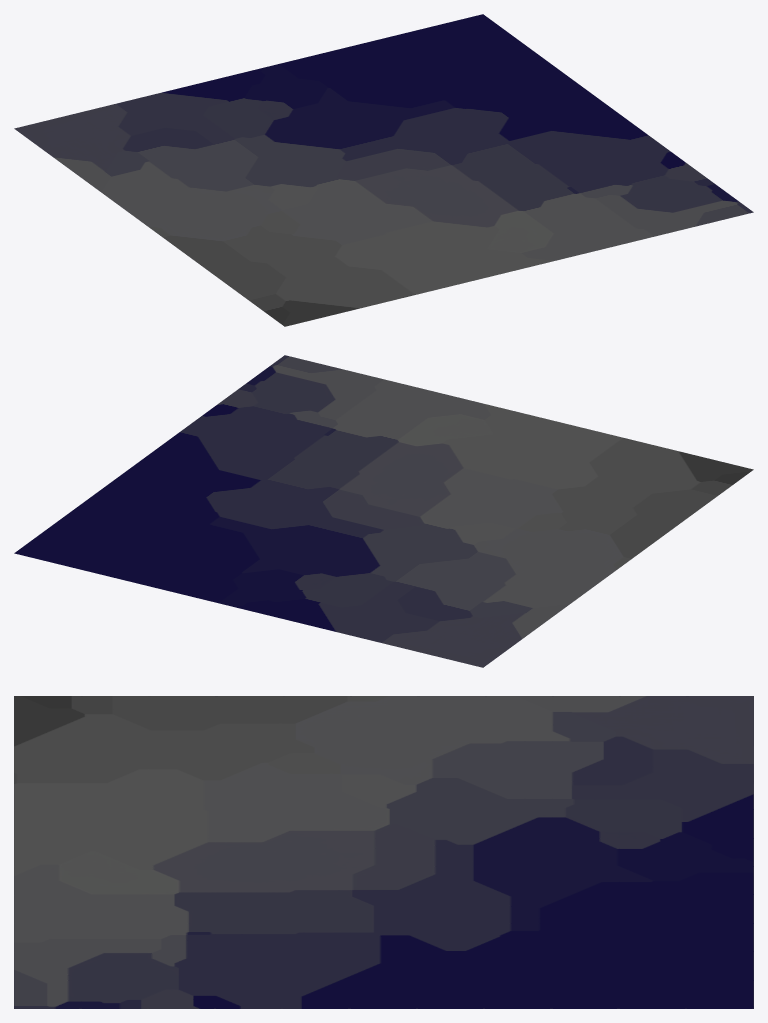
The model's file is gnd.fbx.
3 renders of one model, top to bottom at view 1: azimuth 30°, elevation 25°; view 2: azimuth 150°, elevation 25°; view 3: azimuth 270°, elevation 25°, orthographic. The views are drawn at different scales.
Visible parts, largest first — view 1: gnd; view 2: gnd; view 3: gnd.
Part boxes in pixels (<box>): gnd: <box>14,14,753,326</box>; gnd: <box>14,355,753,667</box>; gnd: <box>14,696,753,1008</box>.
Size of the model in its own units: 1407 by 0.000229 by 1407.
Materials: 1 (1 with a texture image).
